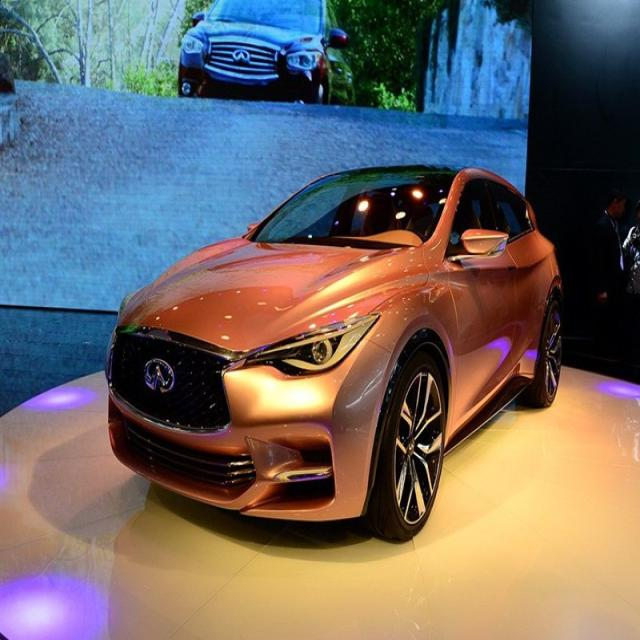front_bumper: (104, 358, 384, 525)
front_glass: (251, 165, 468, 254)
front_left_side_door: (443, 167, 520, 453)
front_left_side_light: (243, 310, 382, 380)
front_left_side_mirror: (449, 225, 508, 263)
wheel: (354, 358, 446, 538), (515, 296, 564, 408)
